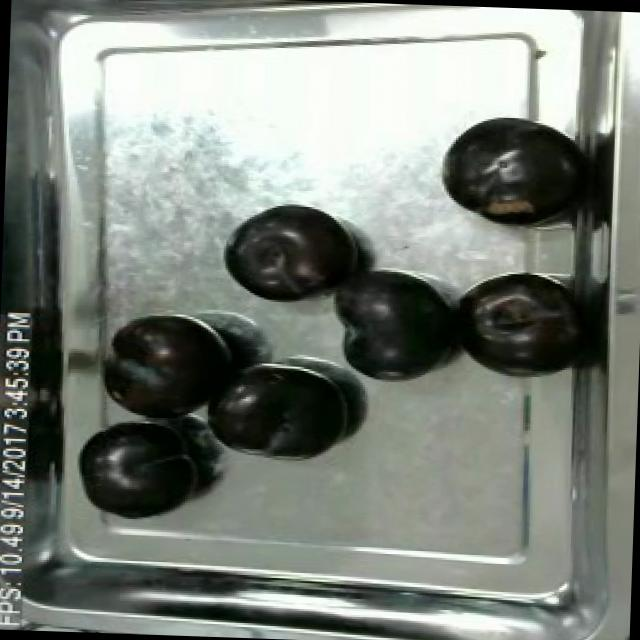Fruit: (432, 104, 590, 235), (196, 354, 360, 472), (323, 260, 463, 389), (98, 306, 244, 428), (216, 196, 369, 308), (70, 414, 212, 528), (457, 269, 585, 381)
